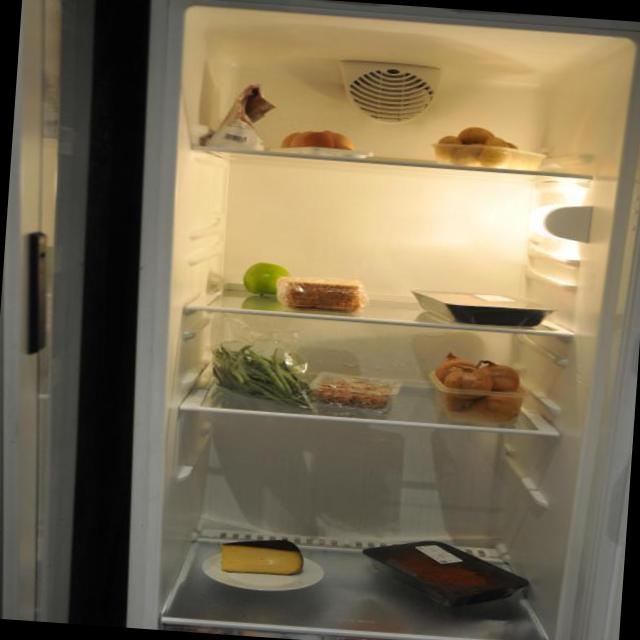Carne vacuno: (380, 540, 510, 607)
Cebolla: (428, 354, 531, 428)
Gambas/Langostinos: (310, 374, 398, 412)
Huevos: (281, 125, 359, 160)
Manzana: (238, 255, 290, 302)
Patata: (423, 124, 535, 174)
Queso: (216, 537, 306, 580)
